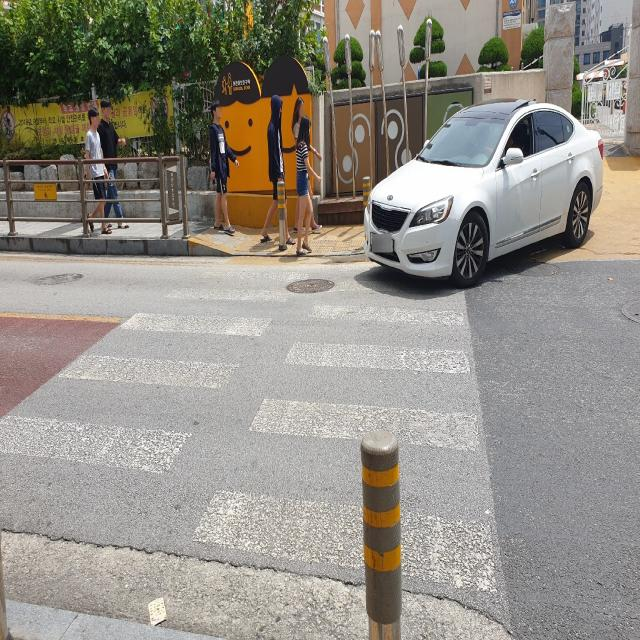횡단보도: (0, 268, 499, 598)
